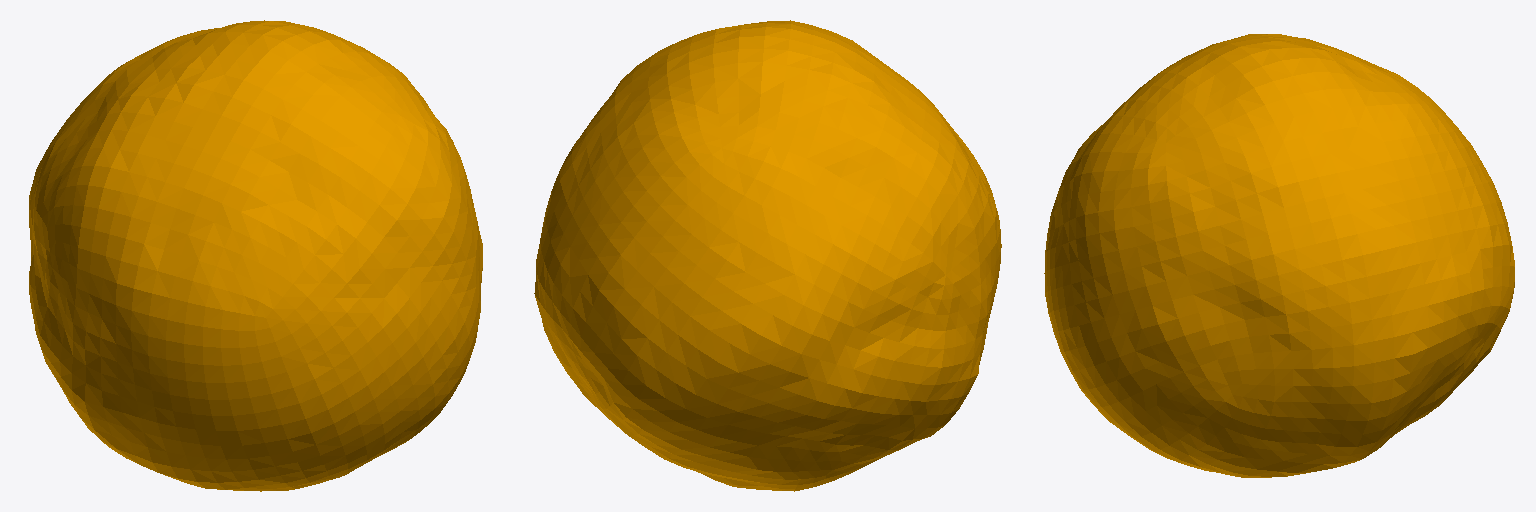
The robot description file, URDF, robot "rock":
<?xml version="1.0" ?>
<robot name="rock">
  <link name="rock">
    <inertial>
      <mass value="0.258"/>
      <origin rpy="0 0 0" xyz="0 0 0"/>
      <inertia ixx="0.000258" ixy="0" ixz="0" iyy="0.000258" iyz="0" izz="0.000258"/>
    </inertial>
    <collision name="rock_collision">
      <origin rpy="0 0 0" xyz="0 0 0"/>
      <geometry>
        <mesh filename="package://rocks/visual/255.dae" scale="1 1 1"/>
      </geometry>
    </collision>
    <visual name="rock_visual">
      <origin rpy="0 0 0" xyz="0 0 0"/>
      <geometry>
        <mesh filename="package://rocks/visual/255.dae" scale="1 1 1"/>
      </geometry>
    </visual>
  </link>
</robot>

--- Facts derived from the render (not from the file) ---
The picture shows the robot from 3 angles, left to right: view 1: azimuth 30°, elevation 25°; view 2: azimuth 150°, elevation 25°; view 3: azimuth 270°, elevation 25°; orthographic projection.
Model rock with 1 links and 0 joints (none), rooted at rock, posed all joints at 0.
Links seen in each view (by area): view 1: rock; view 2: rock; view 3: rock.
Boxes of the visible links, x1,y1,x2,y2 form: rock: (29, 20, 482, 491); rock: (534, 20, 1001, 491); rock: (1044, 34, 1514, 477).
Bounding box of the posed robot: 0.0612 × 0.0669 × 0.0643 m (x, y, z).
1 mesh visuals loaded from 1 distinct referenced files (1 Collada DAE).